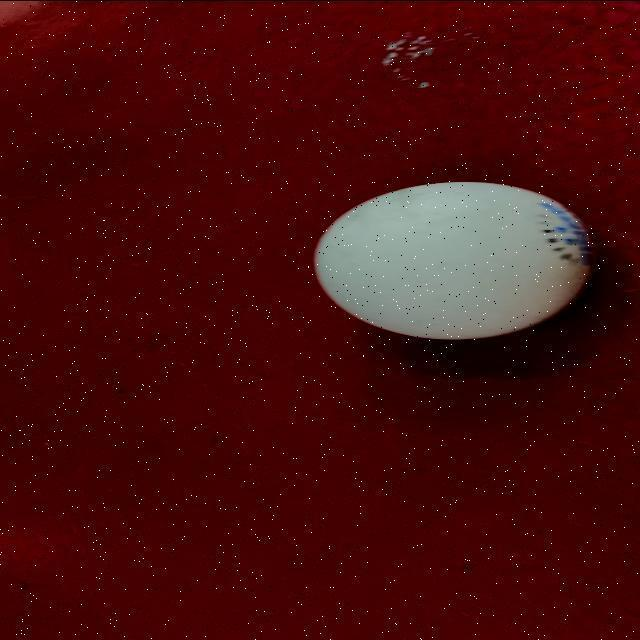ping-pong-ball: (309, 175, 603, 342)
